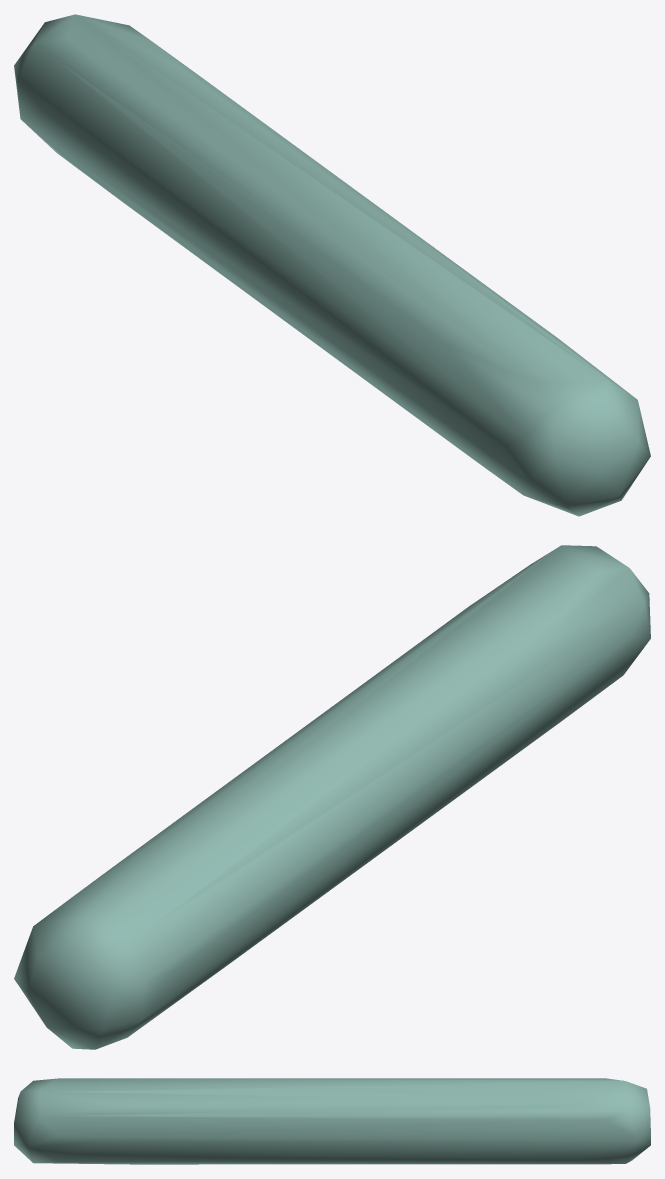
3 renders of one model, top to bottom at view 1: azimuth 30°, elevation 25°; view 2: azimuth 150°, elevation 25°; view 3: azimuth 270°, elevation 25°, orthographic. The views are drawn at different scales.
Size of the model in its own units: 0.271 by 0.2712 by 2.01.
